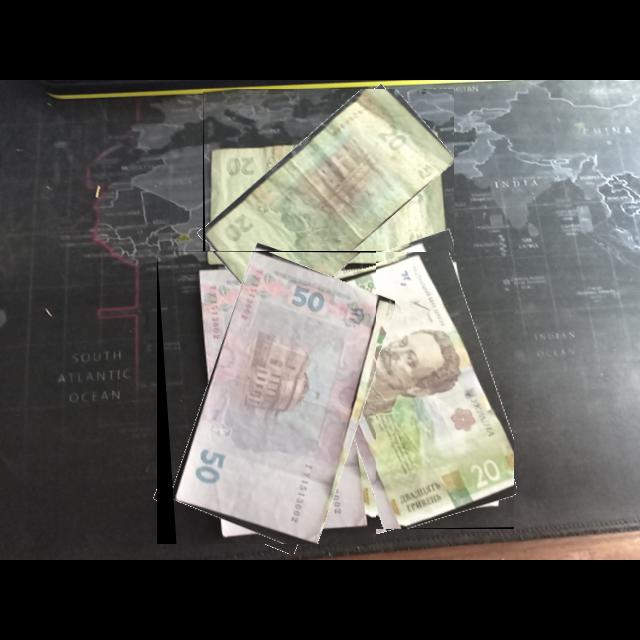20uah: (304, 252, 515, 530), (205, 89, 455, 321)
50uah: (171, 252, 377, 545)
